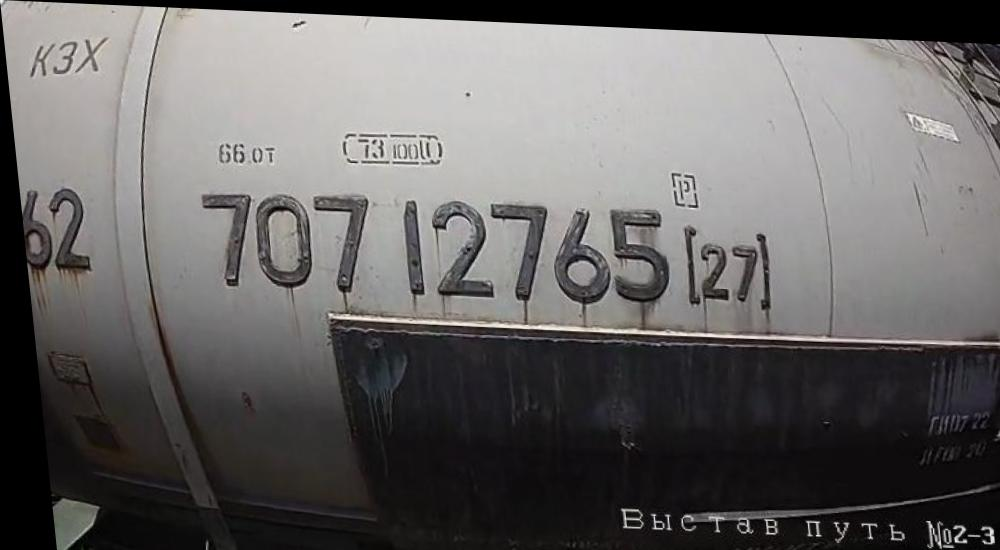Wagon-number: (185, 183, 676, 311)
